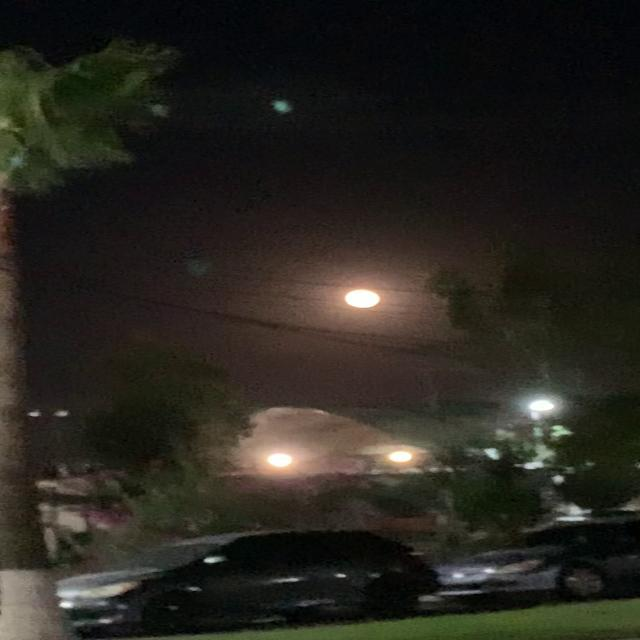moon: (327, 283, 389, 316)
